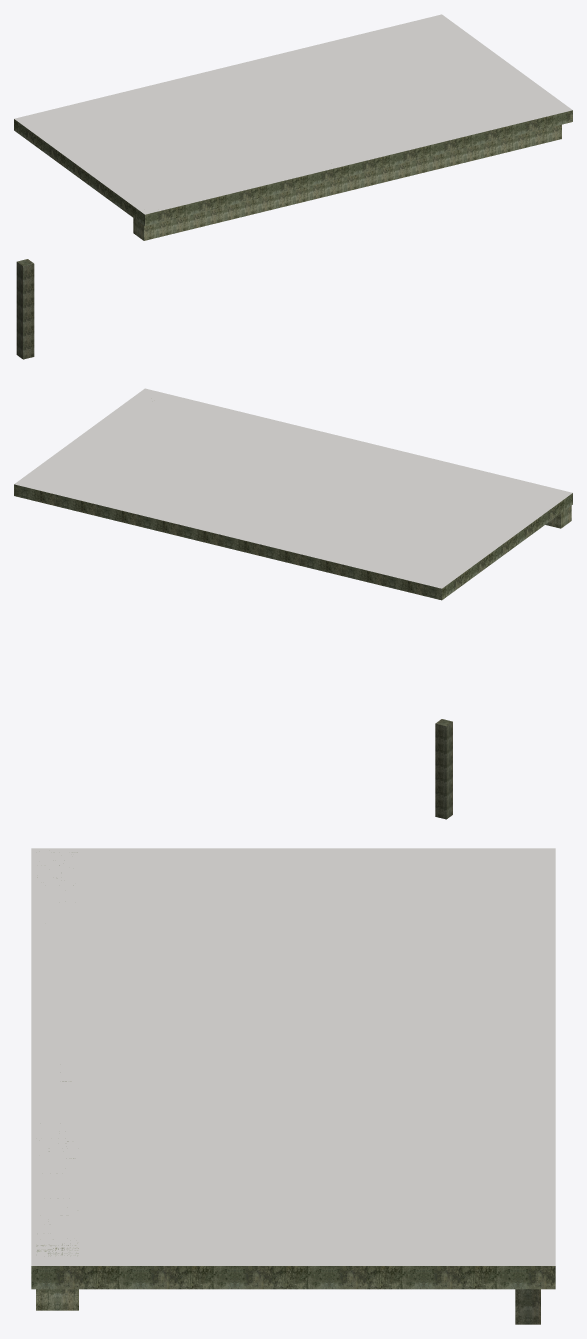
3 views of the same model, one above another, from view 1: azimuth 30°, elevation 25°; view 2: azimuth 150°, elevation 25°; view 3: azimuth 270°, elevation 25° (orthographic). The views are drawn at different scales.
Visible parts, largest first — view 1: Floor Floor-Grnd-Susp_65Scr-80Ins-100Blk-75PC [688862]001, Concrete - Rectangular Beam 250 x 350 mm [688590]001, Columns_Rectangular 150 x 150 mm2 [667990]001; view 2: Floor Floor-Grnd-Susp_65Scr-80Ins-100Blk-75PC [688862]001, Columns_Rectangular 150 x 150 mm2 [667990]001; view 3: Floor Floor-Grnd-Susp_65Scr-80Ins-100Blk-75PC [688862]001, Concrete - Rectangular Beam 250 x 350 mm [688590]001, Columns_Rectangular 150 x 150 mm2 [667990]001.
Boxes of the visible parts, x1=… form: Floor Floor-Grnd-Susp_65Scr-80Ins-100Blk-75PC [688862]001: x1=14, y1=14, x2=572, y2=226; Concrete - Rectangular Beam 250 x 350 mm [688590]001: x1=133, y1=124, x2=561, y2=240; Columns_Rectangular 150 x 150 mm2 [667990]001: x1=16, y1=259, x2=34, y2=359; Floor Floor-Grnd-Susp_65Scr-80Ins-100Blk-75PC [688862]001: x1=14, y1=388, x2=572, y2=600; Columns_Rectangular 150 x 150 mm2 [667990]001: x1=435, y1=719, x2=452, y2=819; Floor Floor-Grnd-Susp_65Scr-80Ins-100Blk-75PC [688862]001: x1=31, y1=848, x2=555, y2=1289; Concrete - Rectangular Beam 250 x 350 mm [688590]001: x1=36, y1=851, x2=78, y2=1310; Columns_Rectangular 150 x 150 mm2 [667990]001: x1=515, y1=1289, x2=540, y2=1324.
Bounding box in the file's own units: 5.77 × 3 × 3.05.
4 materials, 3 textured.
